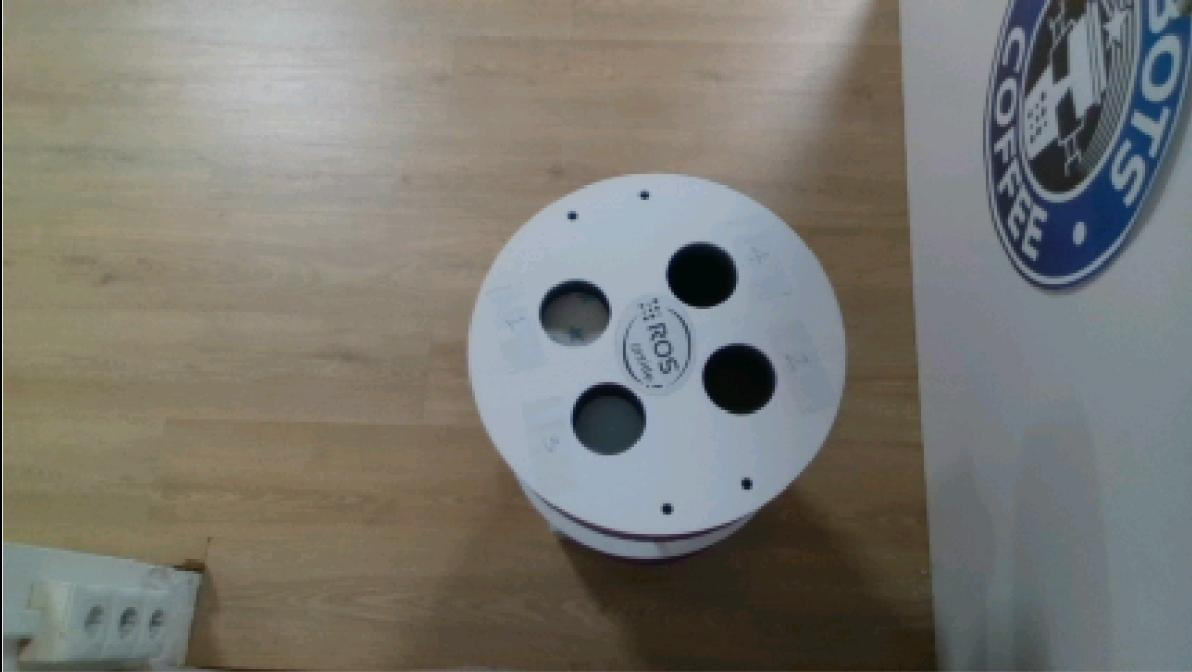hole: (569, 378, 651, 460), (700, 336, 780, 418), (534, 273, 613, 350), (662, 238, 743, 311)
